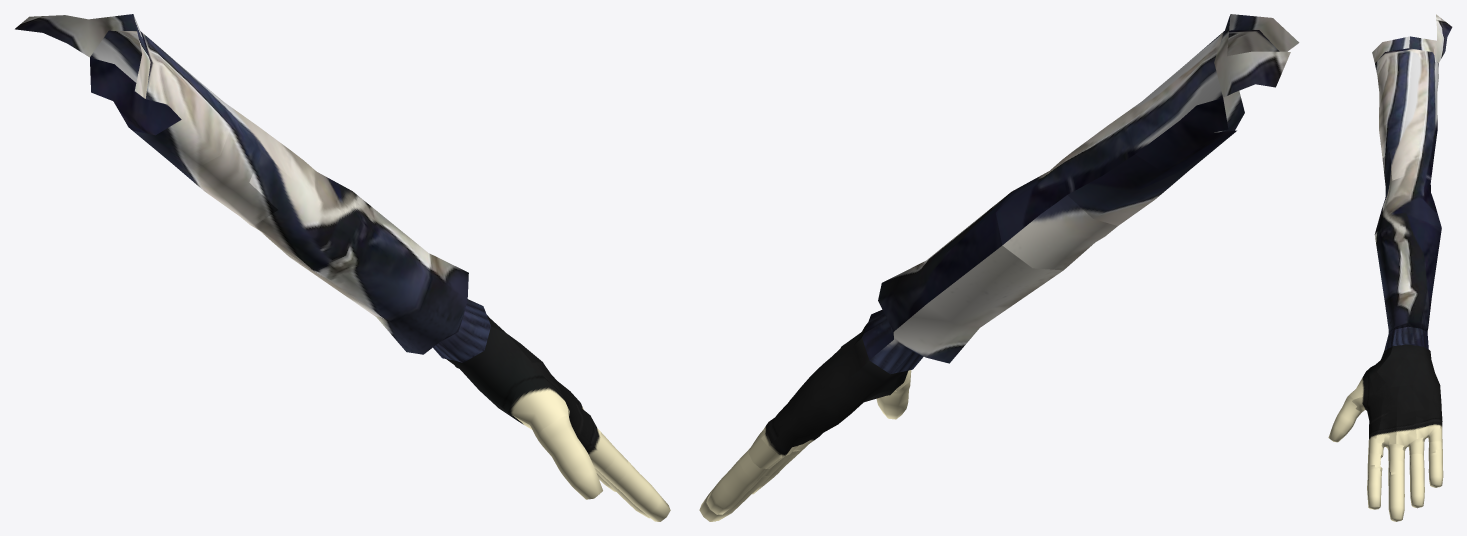
File: brazoIzq.obj
3 renders of one model, left to right at view 1: azimuth 30°, elevation 25°; view 2: azimuth 150°, elevation 25°; view 3: azimuth 270°, elevation 25°, orthographic. The views are drawn at different scales.
Visible parts, largest first — view 1: brazoIzq; view 2: brazoIzq; view 3: brazoIzq.
Boxes of the visible parts, left/top/right/bottom form: brazoIzq: left=15, top=14, right=670, bottom=521; brazoIzq: left=699, top=14, right=1299, bottom=521; brazoIzq: left=1328, top=14, right=1452, bottom=521.
Size of the model in its own units: 3.19 by 3.15 by 1.02.
1 material, 1 textured.
